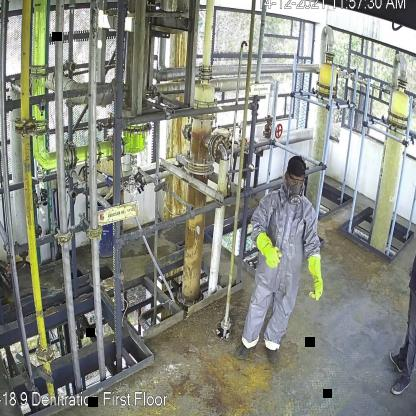goggles: (288, 175, 305, 186)
mask: (285, 183, 302, 206)
